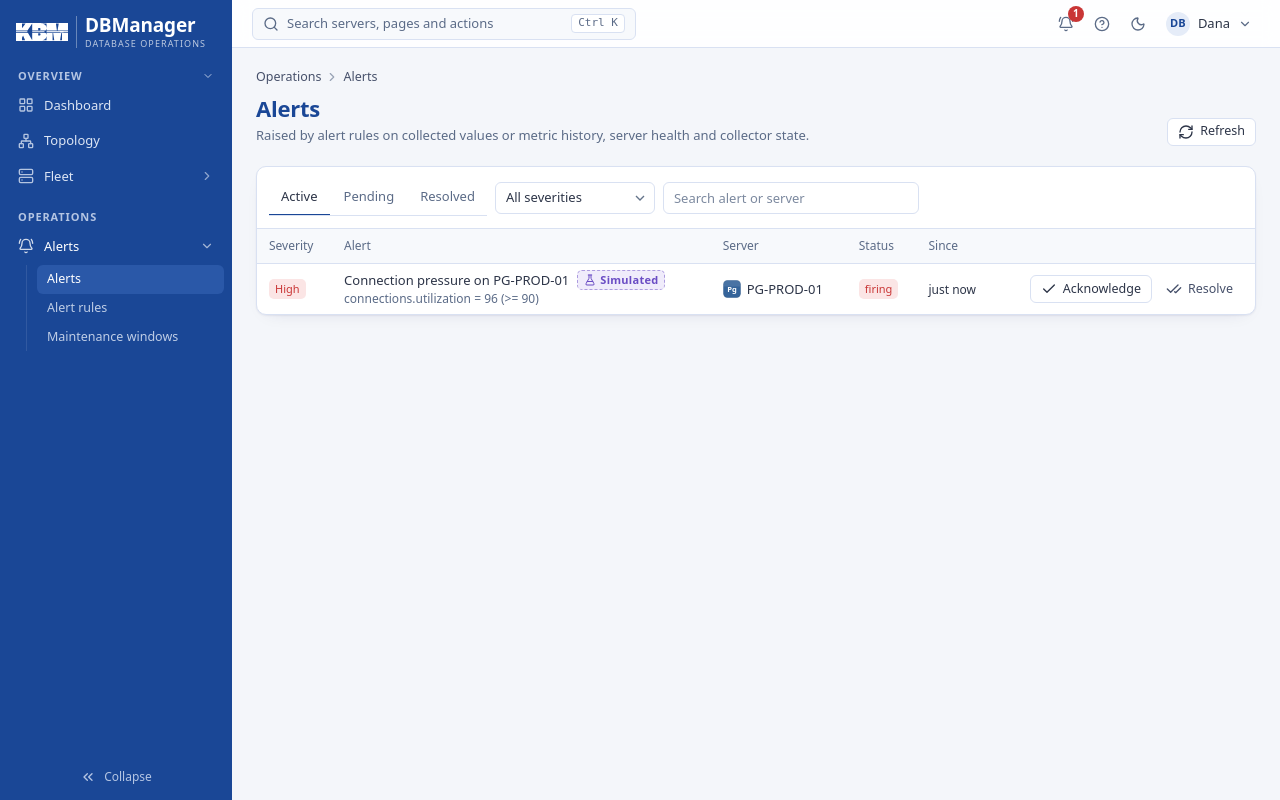
Test: alerts › tells the user how long to wait when an action is rate-limited
Click the button "Acknowledge" at (1091, 289), box top-left (1030, 275), bottom-right (1152, 303)
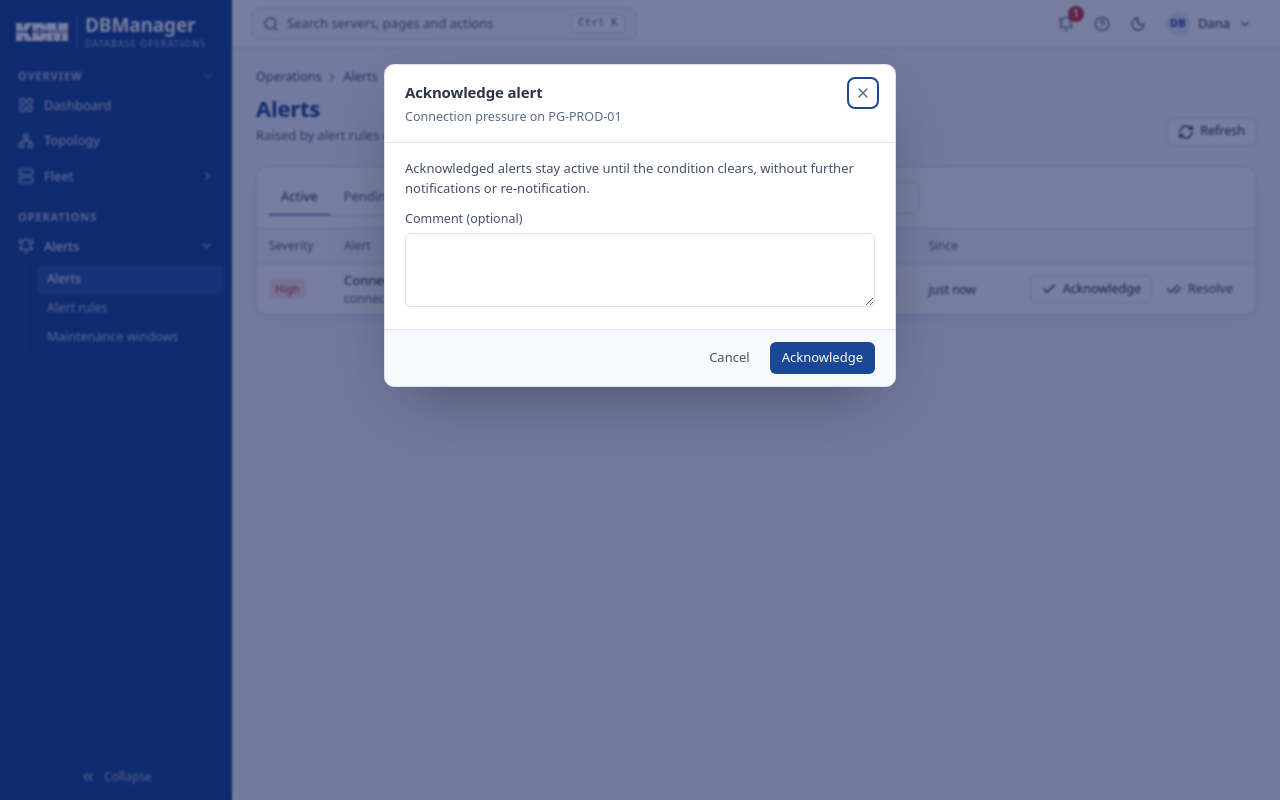
Click the button "Acknowledge" at (822, 358), box top-left (770, 342), bottom-right (875, 374)
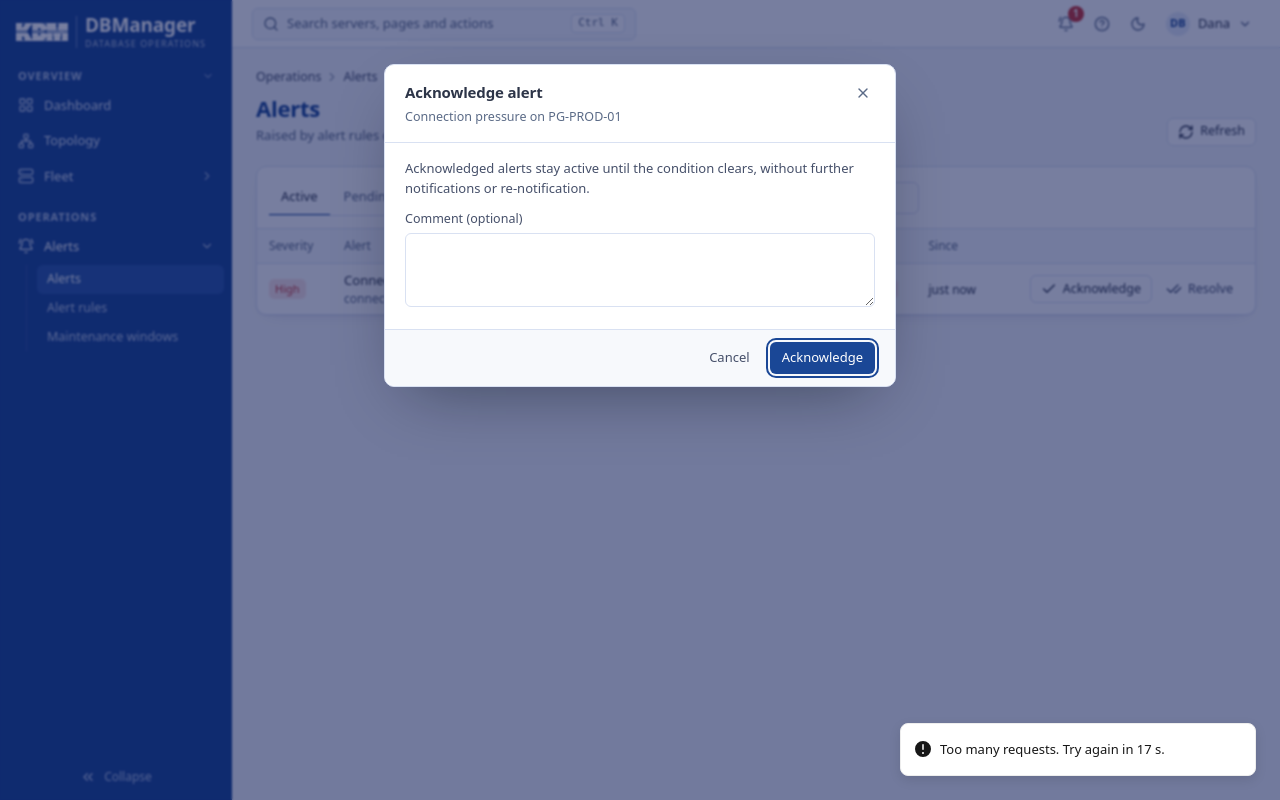
Expected: the text "Too many requests. Try again in 17 s." is shown, top-left (940, 740), bottom-right (1165, 759)
